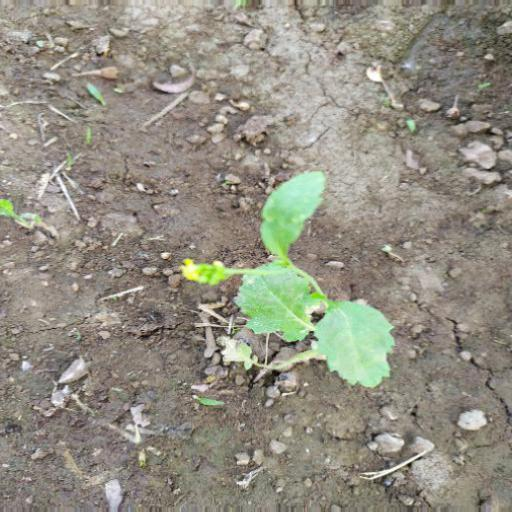weed: (176, 167, 410, 410)
